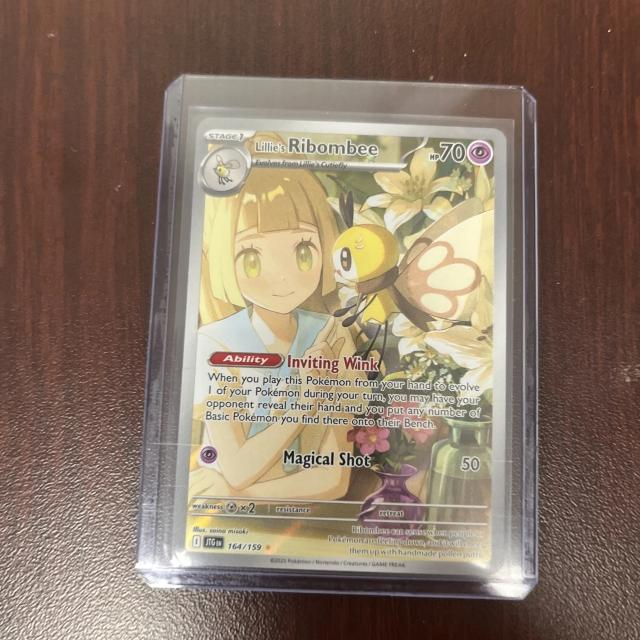Card: (167, 110, 514, 581)
Name: (251, 130, 384, 165)
